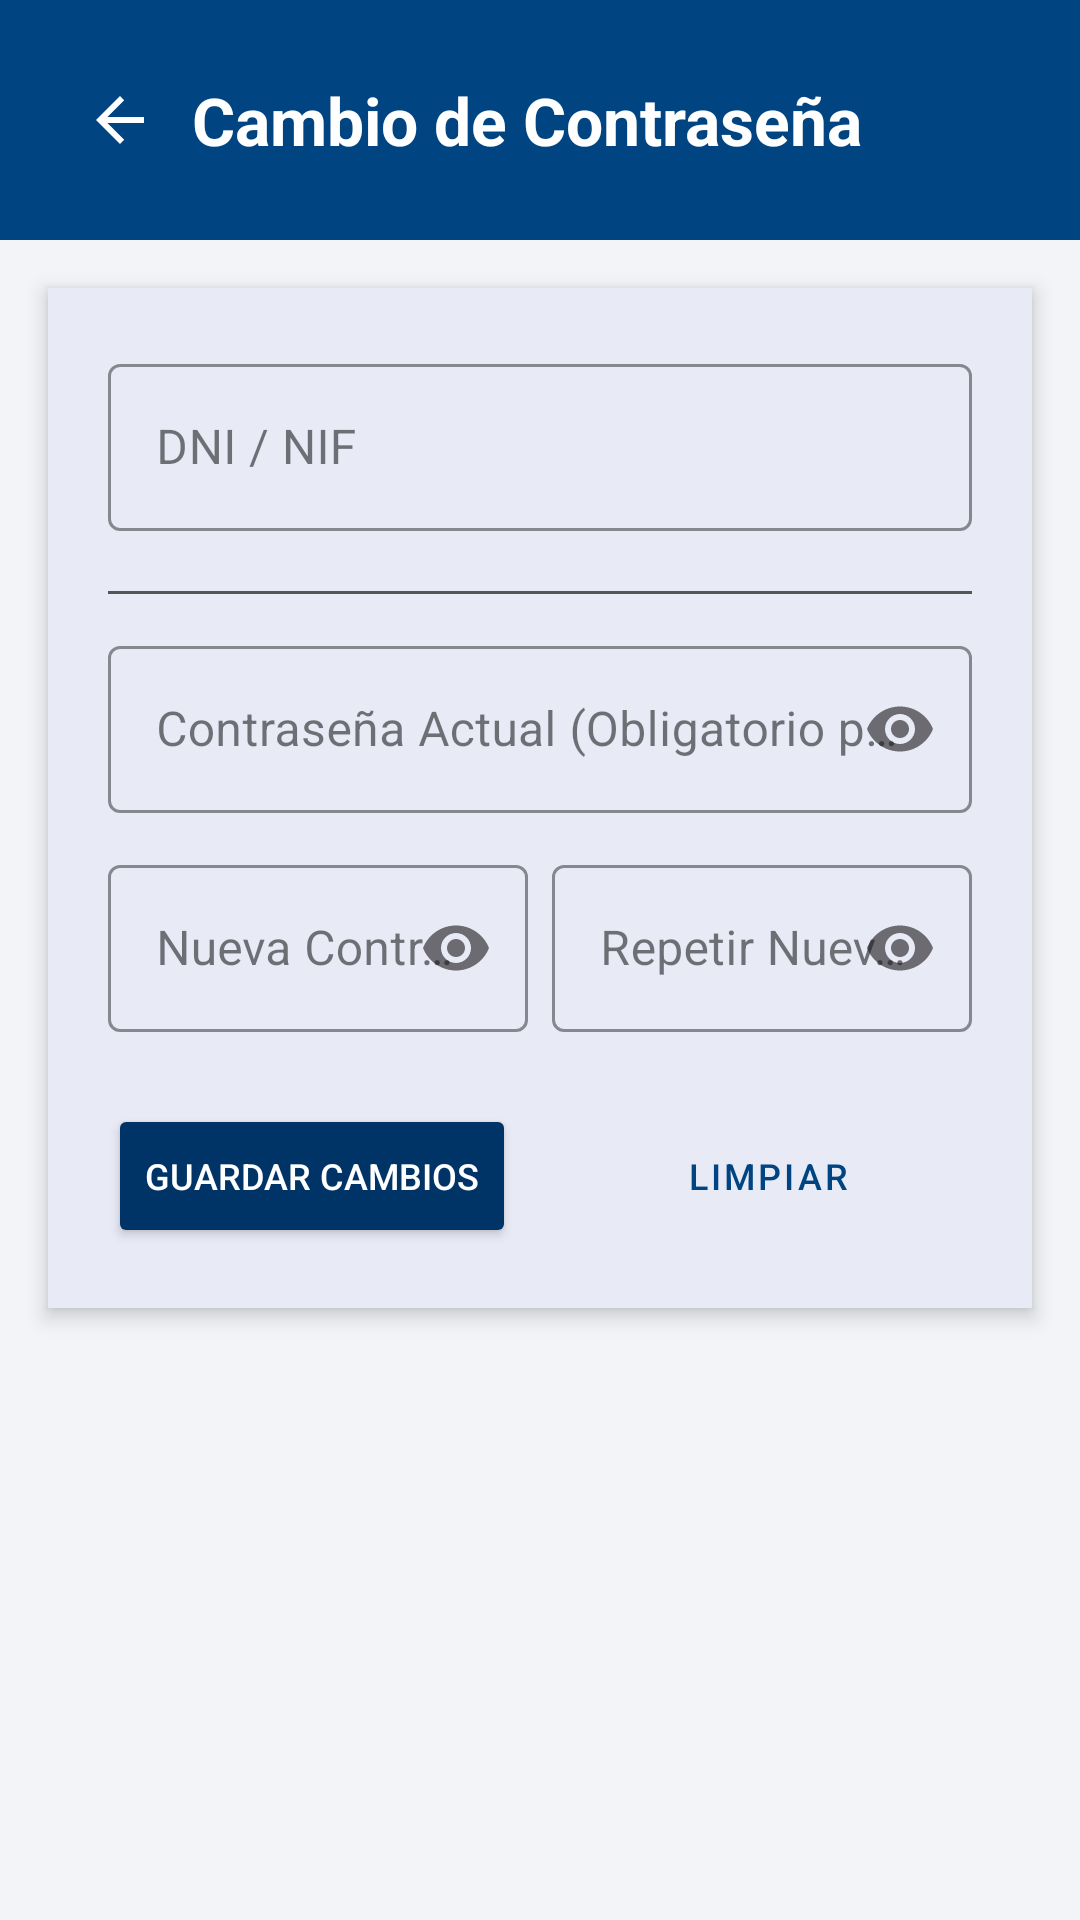

Screen size 1080px×1920px. Icon name, then its center in pixels as (x=x, y=y):
Volver: (x=120, y=120)
